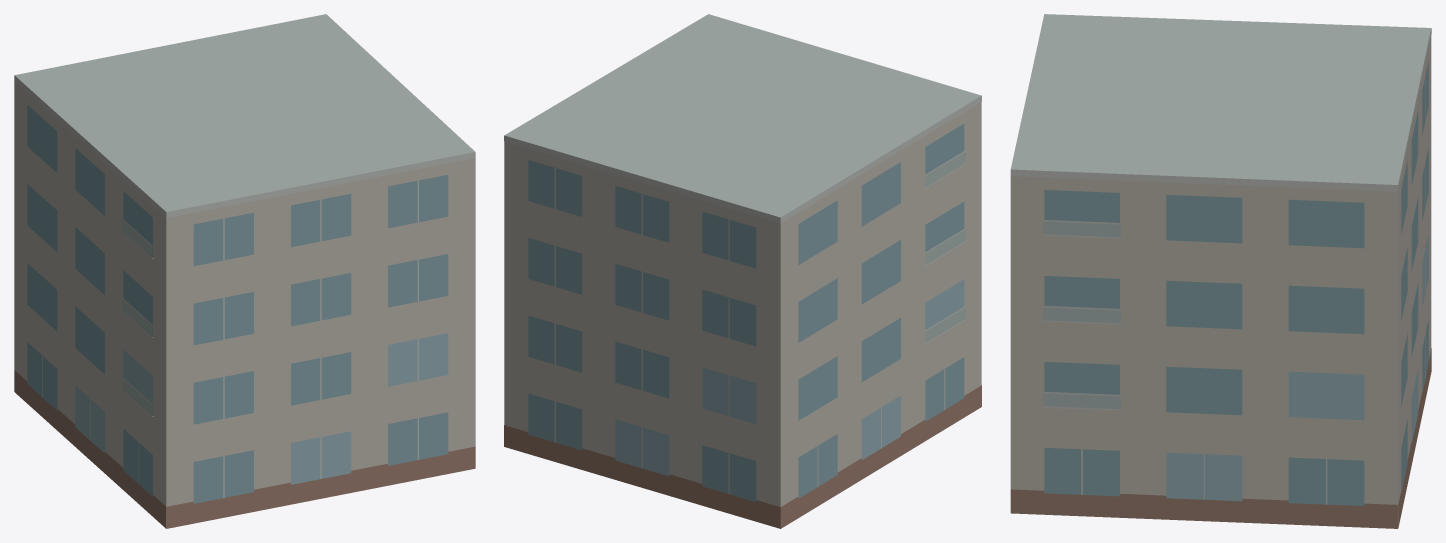
File: survey-upis-32669119.glb
The picture shows the model from 3 angles, left to right: view 1: azimuth 30°, elevation 25°; view 2: azimuth 150°, elevation 25°; view 3: azimuth 270°, elevation 25°; orthographic projection. The views are drawn at different scales.
Visible parts, largest first — view 1: survey-upis-32669119.tmp; view 2: survey-upis-32669119.tmp; view 3: survey-upis-32669119.tmp.
Part boxes in pixels (x1,y1,x2,y2): survey-upis-32669119.tmp: [14, 14, 475, 528]; survey-upis-32669119.tmp: [504, 14, 981, 528]; survey-upis-32669119.tmp: [1010, 14, 1431, 528].
Bounding box in the file's own units: 13.56 × 12.7 × 14.09.
